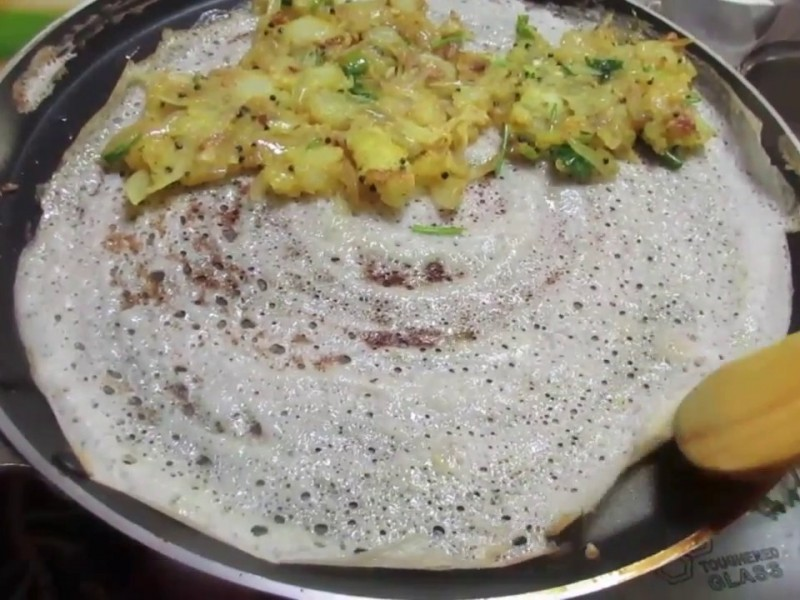dosa: (12, 2, 793, 568)
